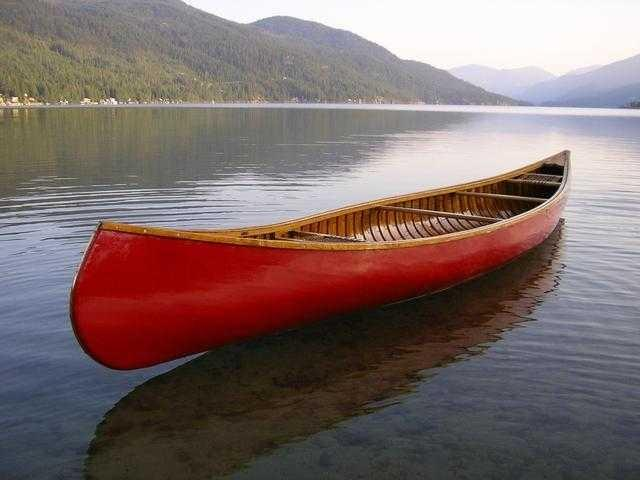kayak: (73, 149, 574, 374)
